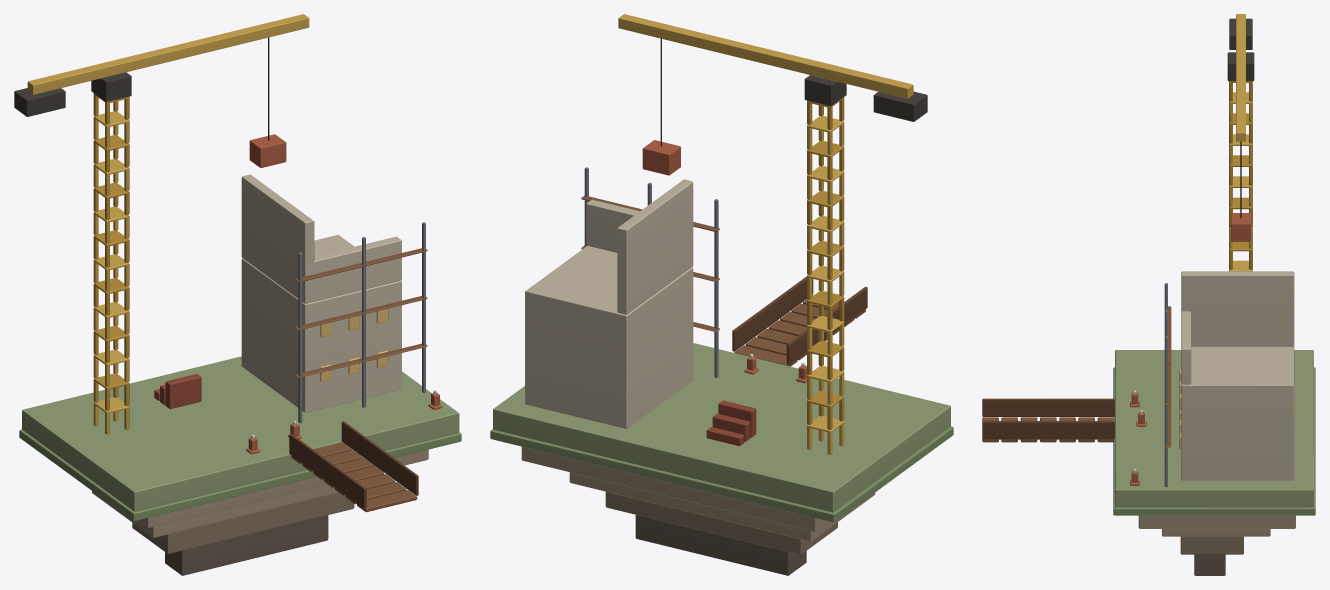
The model's file is region_13.glb.
3 views of the same model, side by side, from view 1: azimuth 30°, elevation 25°; view 2: azimuth 150°, elevation 25°; view 3: azimuth 270°, elevation 25° (orthographic). The views are drawn at different scales.
Parts seen in each view (by area): view 1: region_13_static, region_13_jib, region_13_glow; view 2: region_13_static, region_13_jib; view 3: region_13_static, region_13_jib.
Part boxes in pixels (bbox=[...]): region_13_static: bbox=[19, 93, 461, 575]; region_13_jib: bbox=[14, 14, 309, 167]; region_13_glow: bbox=[320, 309, 388, 381]; region_13_static: bbox=[490, 97, 953, 575]; region_13_jib: bbox=[618, 14, 927, 175]; region_13_static: bbox=[982, 81, 1315, 575]; region_13_jib: bbox=[1227, 14, 1254, 241].
Bounding box in the file's own units: 11.35 × 14.81 × 10.05.
